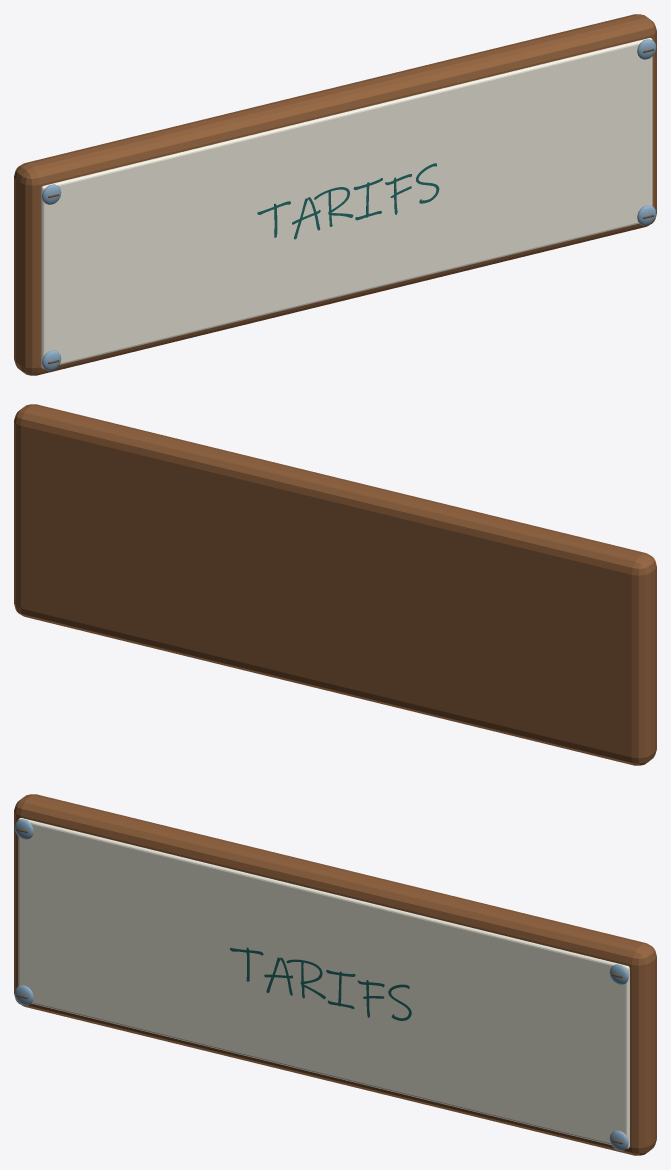
The model's file is tariffs_sign.glb.
3 renders of one model, top to bottom at view 1: azimuth 30°, elevation 25°; view 2: azimuth 150°, elevation 25°; view 3: azimuth 330°, elevation 25°, orthographic.
Visible parts, largest first — view 1: Sign_cream_face, Sign_timber, Flat_sign; view 2: Sign_timber; view 3: Sign_cream_face, Sign_timber, Flat_sign.
Part boxes in pixels (bbox=[...]): Sign_cream_face: bbox=[41, 38, 652, 368]; Sign_timber: bbox=[14, 14, 656, 375]; Flat_sign: bbox=[257, 163, 439, 239]; Sign_timber: bbox=[14, 404, 656, 765]; Sign_cream_face: bbox=[18, 818, 629, 1148]; Sign_timber: bbox=[14, 794, 656, 1155]; Flat_sign: bbox=[230, 947, 411, 1020].
Bounding box in the file's own units: 0.8 × 0.25 × 0.0554.
